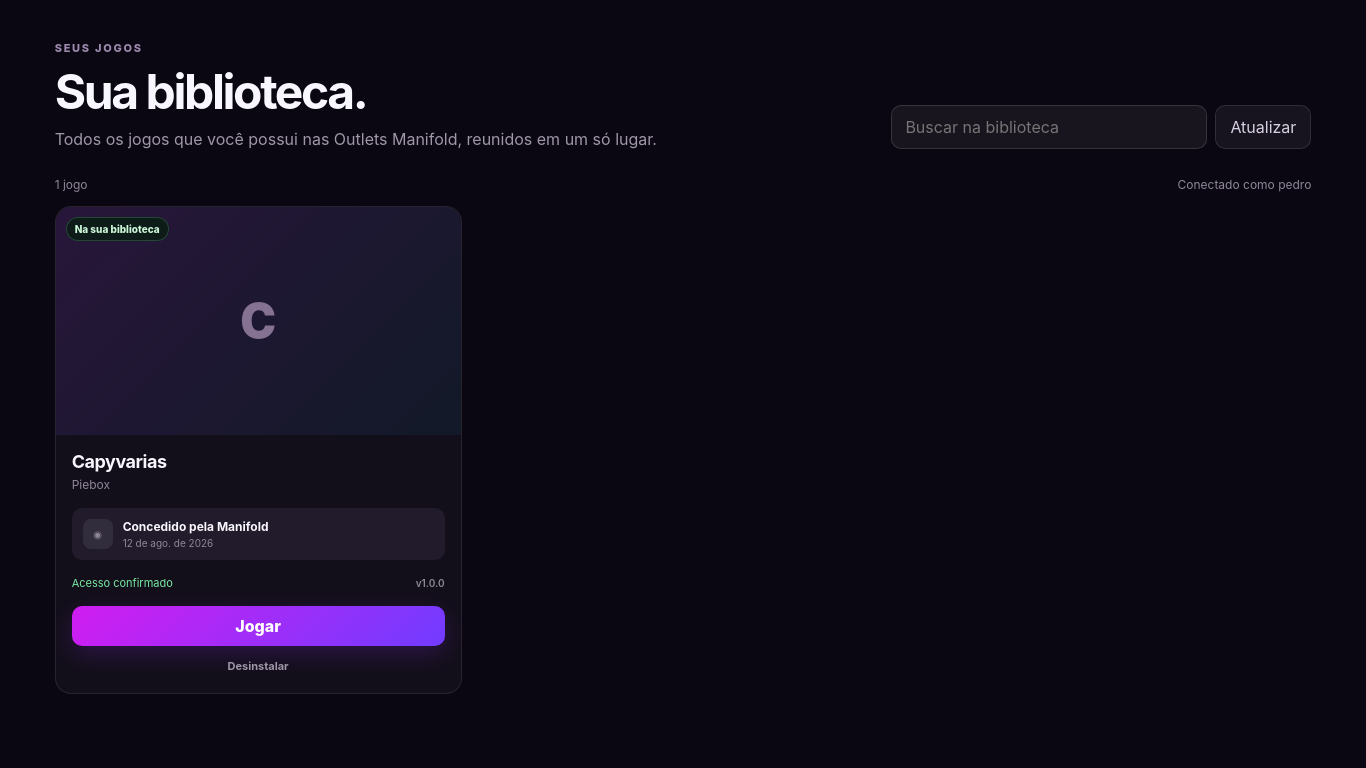
it: localizes the uninstall confirmation in Brazilian Portuguese
Click the button "Desinstalar" at (258,666), box [220,655,297,677]
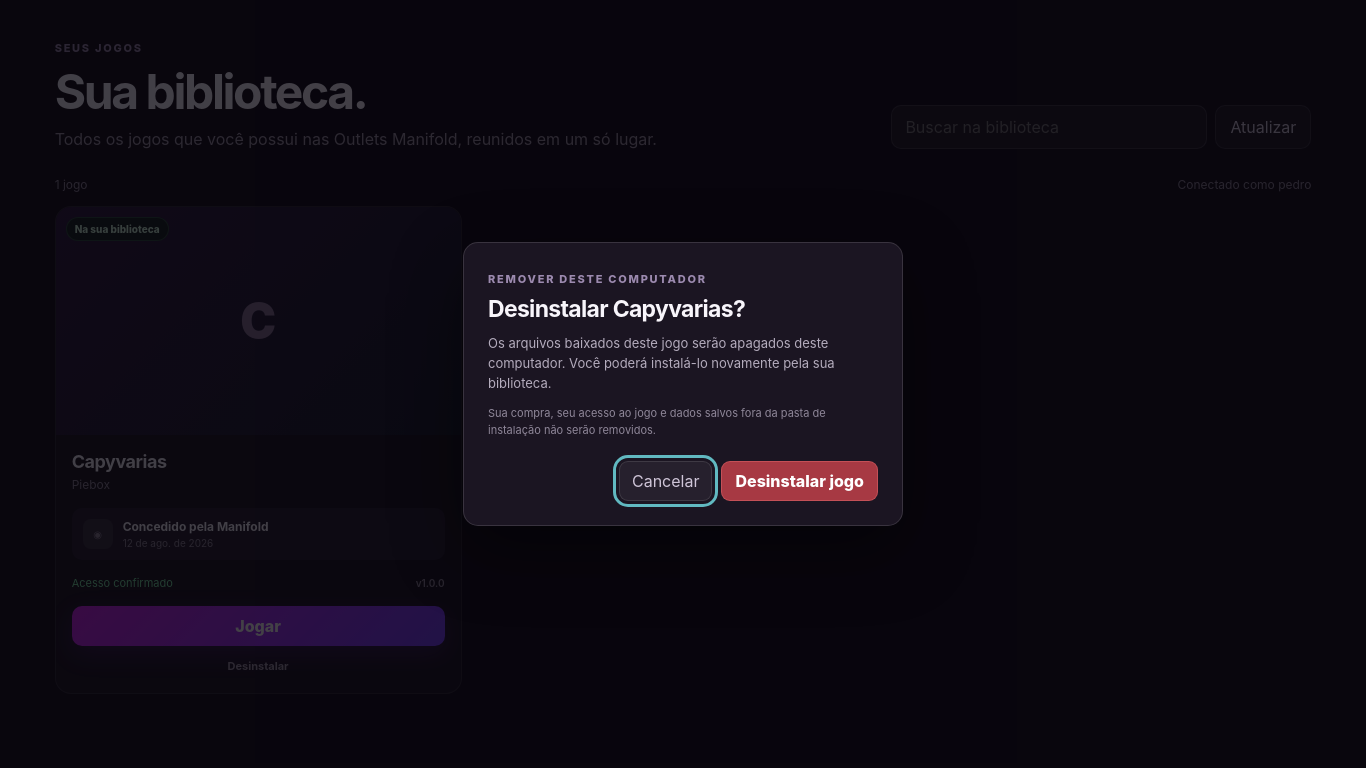
Expected: the dialog "Desinstalar Capyvarias?" is shown, [463,242,903,526]
Expected: the text "Sua compra, seu acesso ao jogo" is shown, [488,406,826,437]
